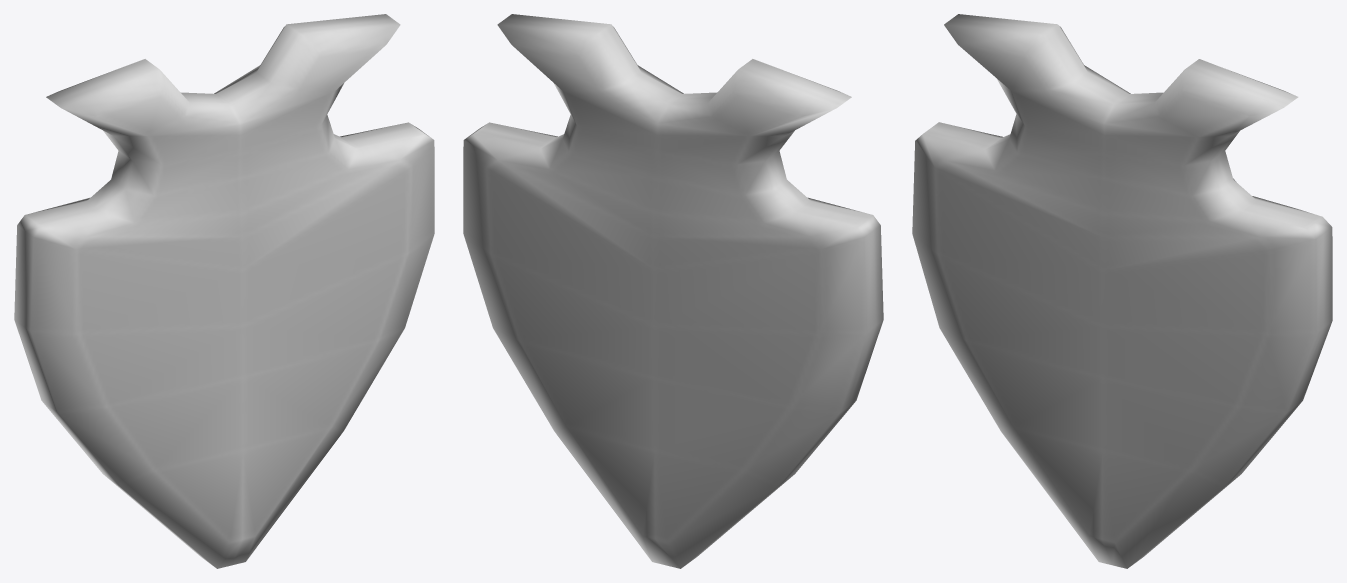
Rendered from Shield.fbx.
3 renders of one model, left to right at view 1: azimuth 30°, elevation 25°; view 2: azimuth 150°, elevation 25°; view 3: azimuth 330°, elevation 25°, orthographic.
Visible parts, largest first — view 1: polySurface1; view 2: polySurface1; view 3: polySurface1.
Part boxes in pixels (x1,y1,x2,y2): polySurface1: (14, 14, 434, 568); polySurface1: (463, 14, 883, 568); polySurface1: (912, 14, 1332, 568).
Bounding box in the file's own units: 2.37 × 2.88 × 0.394.
